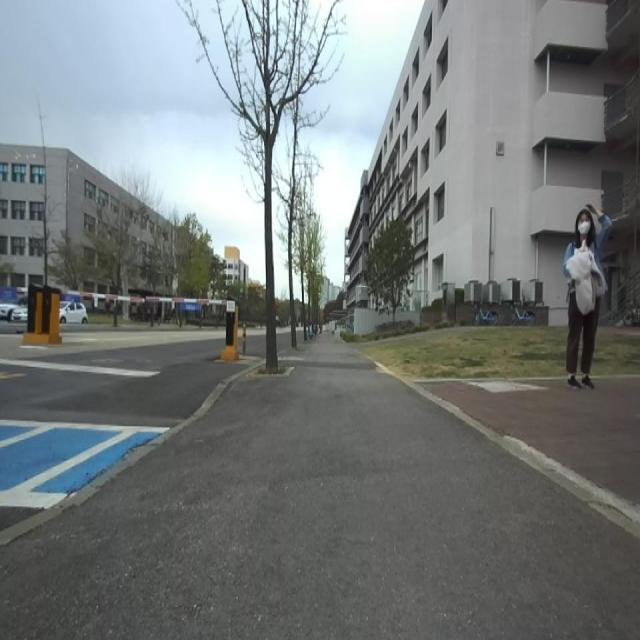sidewalk: (0, 336, 640, 638)
